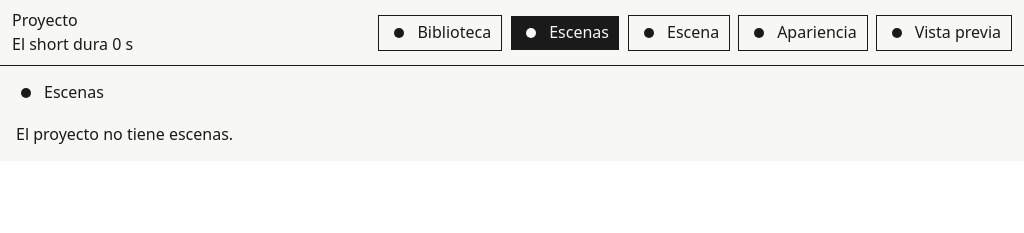
Scenario: al volver, el proyecto y la biblioteca siguen vacíos
Expected: the heading "Proyecto" is shown, x1=12 y1=9 x2=78 y2=31
Expected: the text "El short dura 0 s" is shown, x1=12 y1=34 x2=133 y2=55
Click the button "Biblioteca". click: (440, 33)
box: x1=378 y1=15 x2=502 y2=51
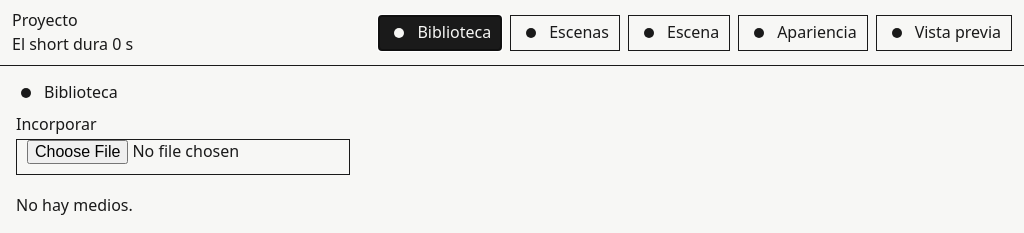
Expected: the text "No hay medios." is shown, x1=16 y1=194 x2=133 y2=216
